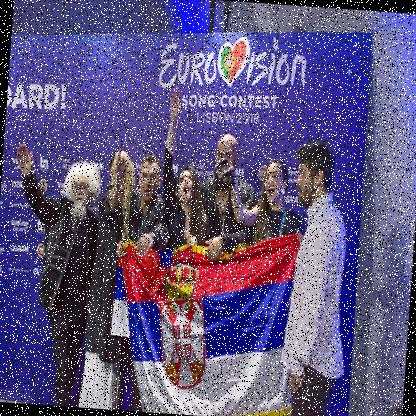pt: (219, 42, 250, 86)
rs: (106, 222, 305, 416)
